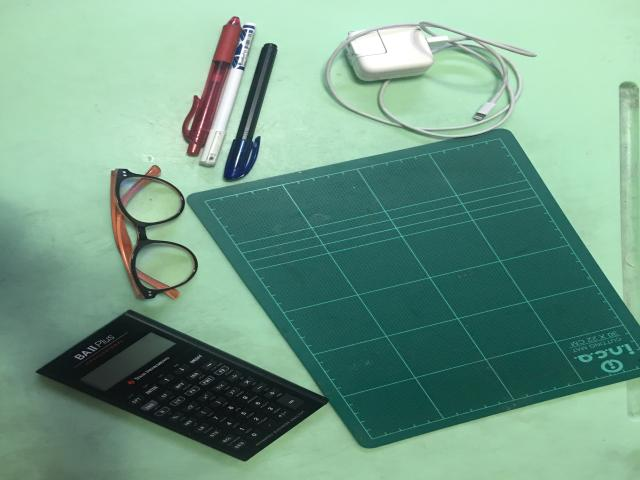Glasses: (112, 166, 197, 299)
Pen: (184, 17, 257, 167), (223, 45, 279, 183)
wire: (325, 22, 537, 138)
